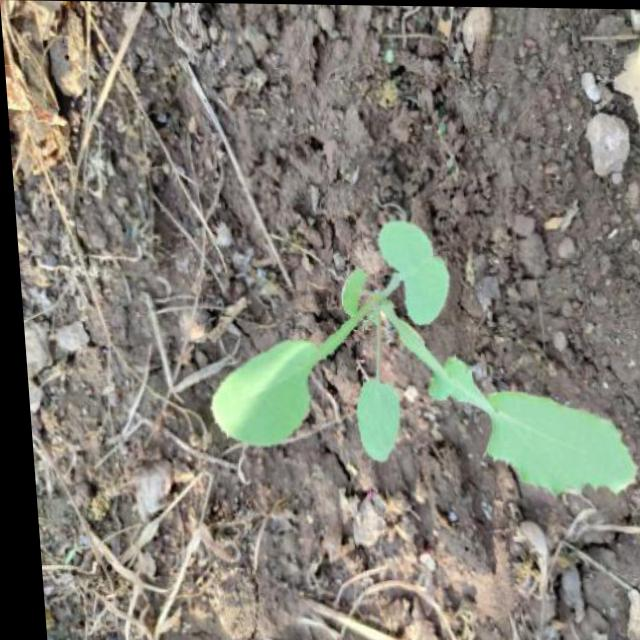crop: (180, 216, 631, 522)
